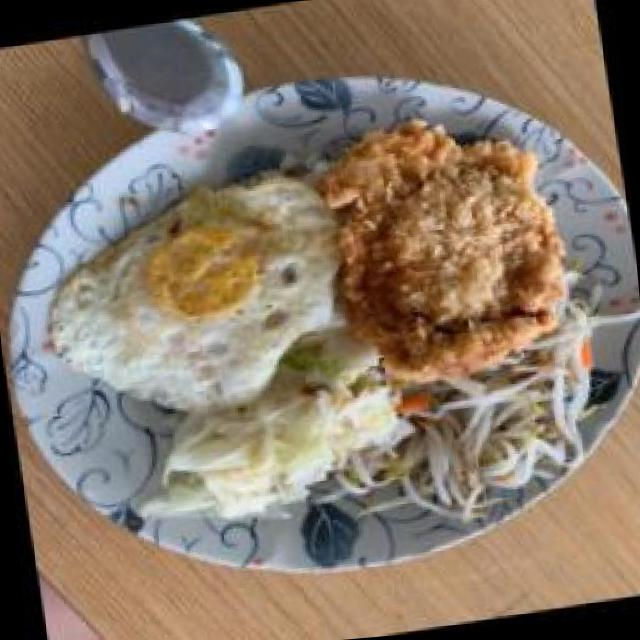chinese_cabbage: (126, 346, 407, 526)
fried_chicken: (310, 96, 577, 384)
fried_eggs: (30, 163, 355, 429)
mung_bean_sprouts: (400, 354, 604, 520)
